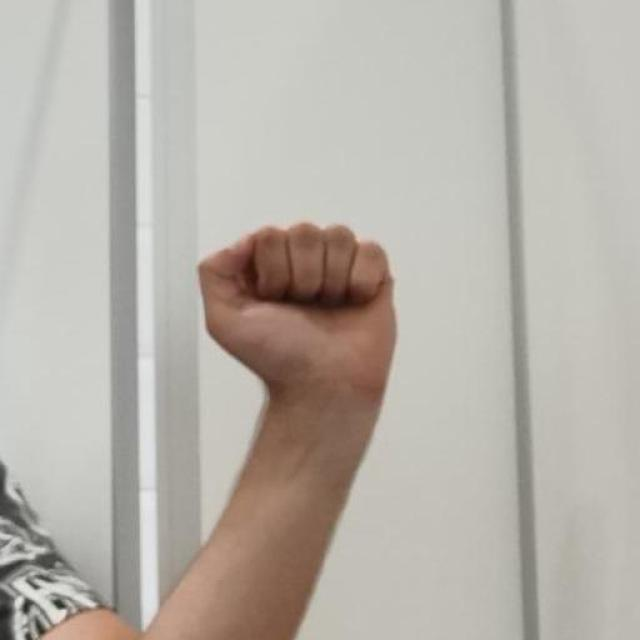hand: (195, 219, 397, 485)
